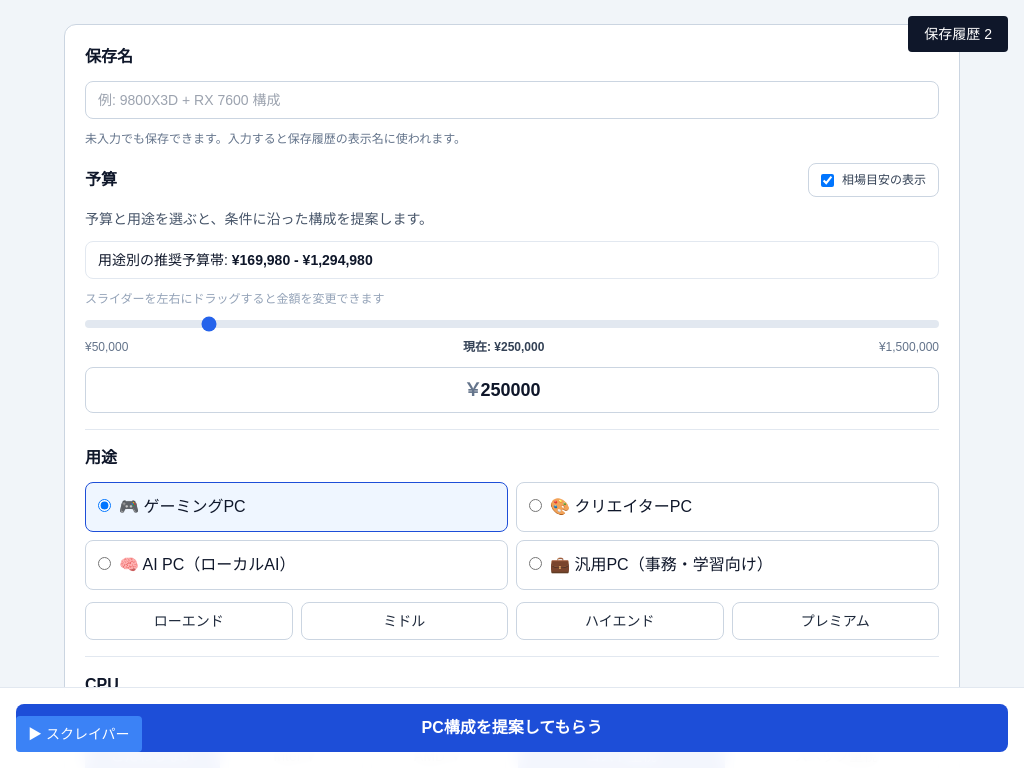
Scenario: App history panel › filters history by usage
This screenshot has width=1024, height=768.
Click the button "保存履歴 2" at (958, 34), box [908, 16, 1008, 52]
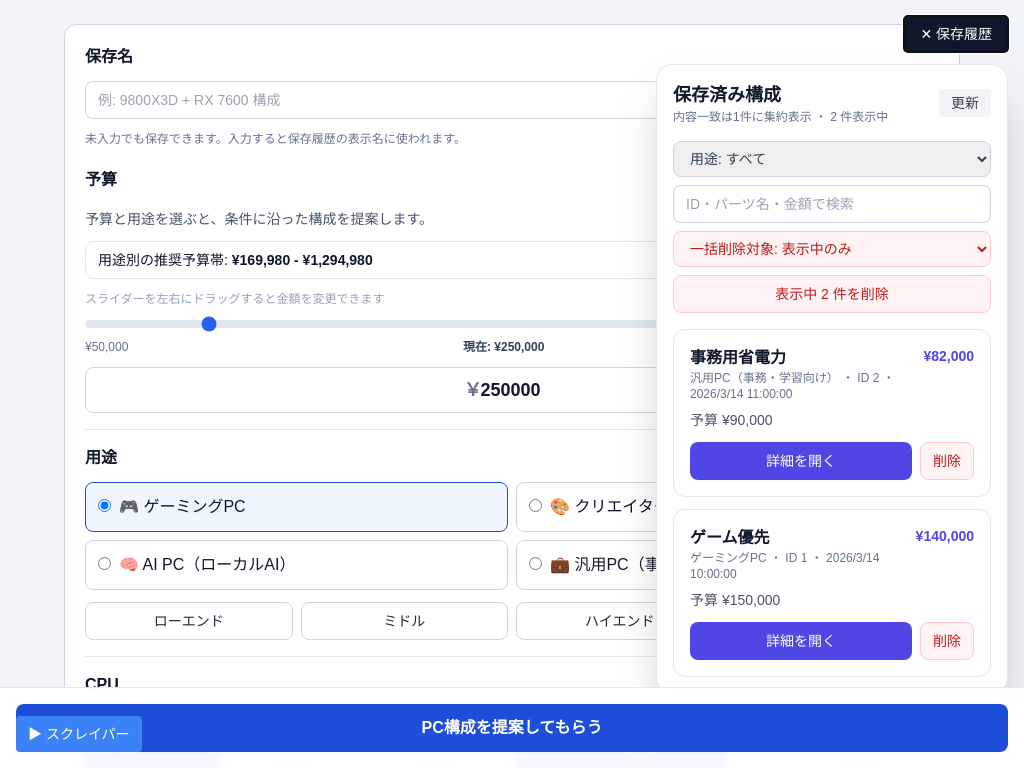
expect the text "ゲーム優先" is shown: met, box [690, 529, 770, 546]
expect the text "事務用省電力" is shown: met, box [690, 349, 786, 366]
Select "用途: ゲーミング" in the 1st dropdown at (832, 159), box [673, 141, 991, 177]
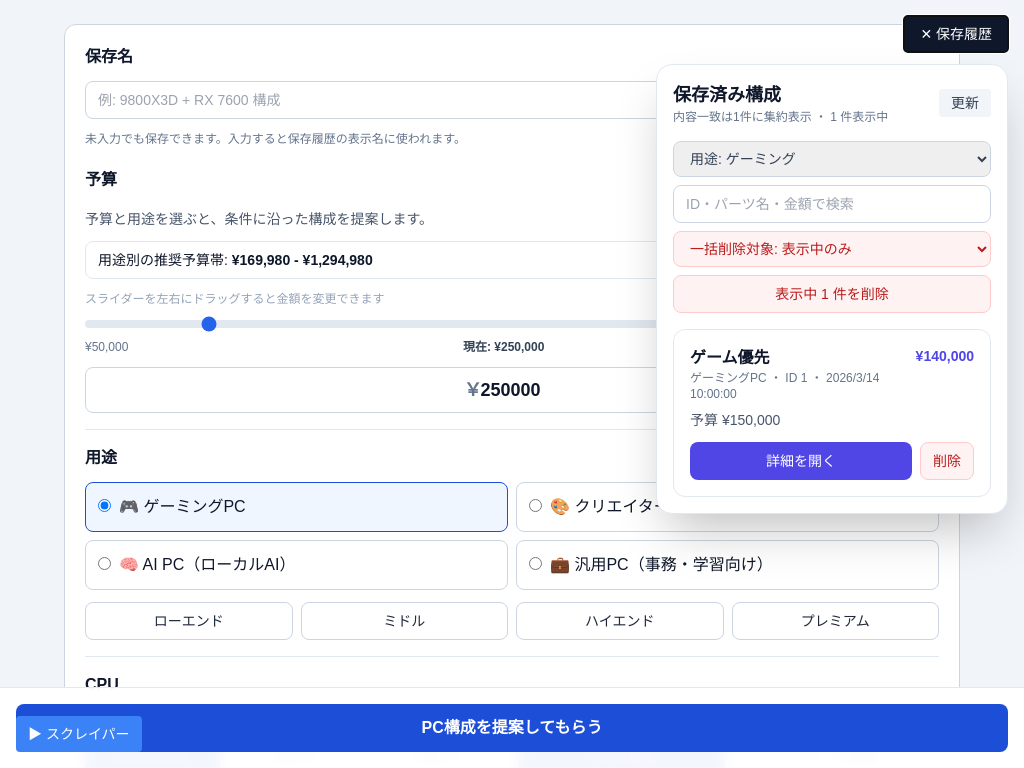
expect the text "ゲーム優先" is shown: met, box [690, 349, 770, 366]
expect the text "事務用省電力" is gone: met
